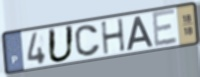4: (26, 30, 48, 67)
A: (126, 15, 155, 52)
C: (73, 24, 102, 58)
E: (151, 8, 179, 49)
H: (99, 17, 127, 56)
U: (47, 24, 76, 64)
